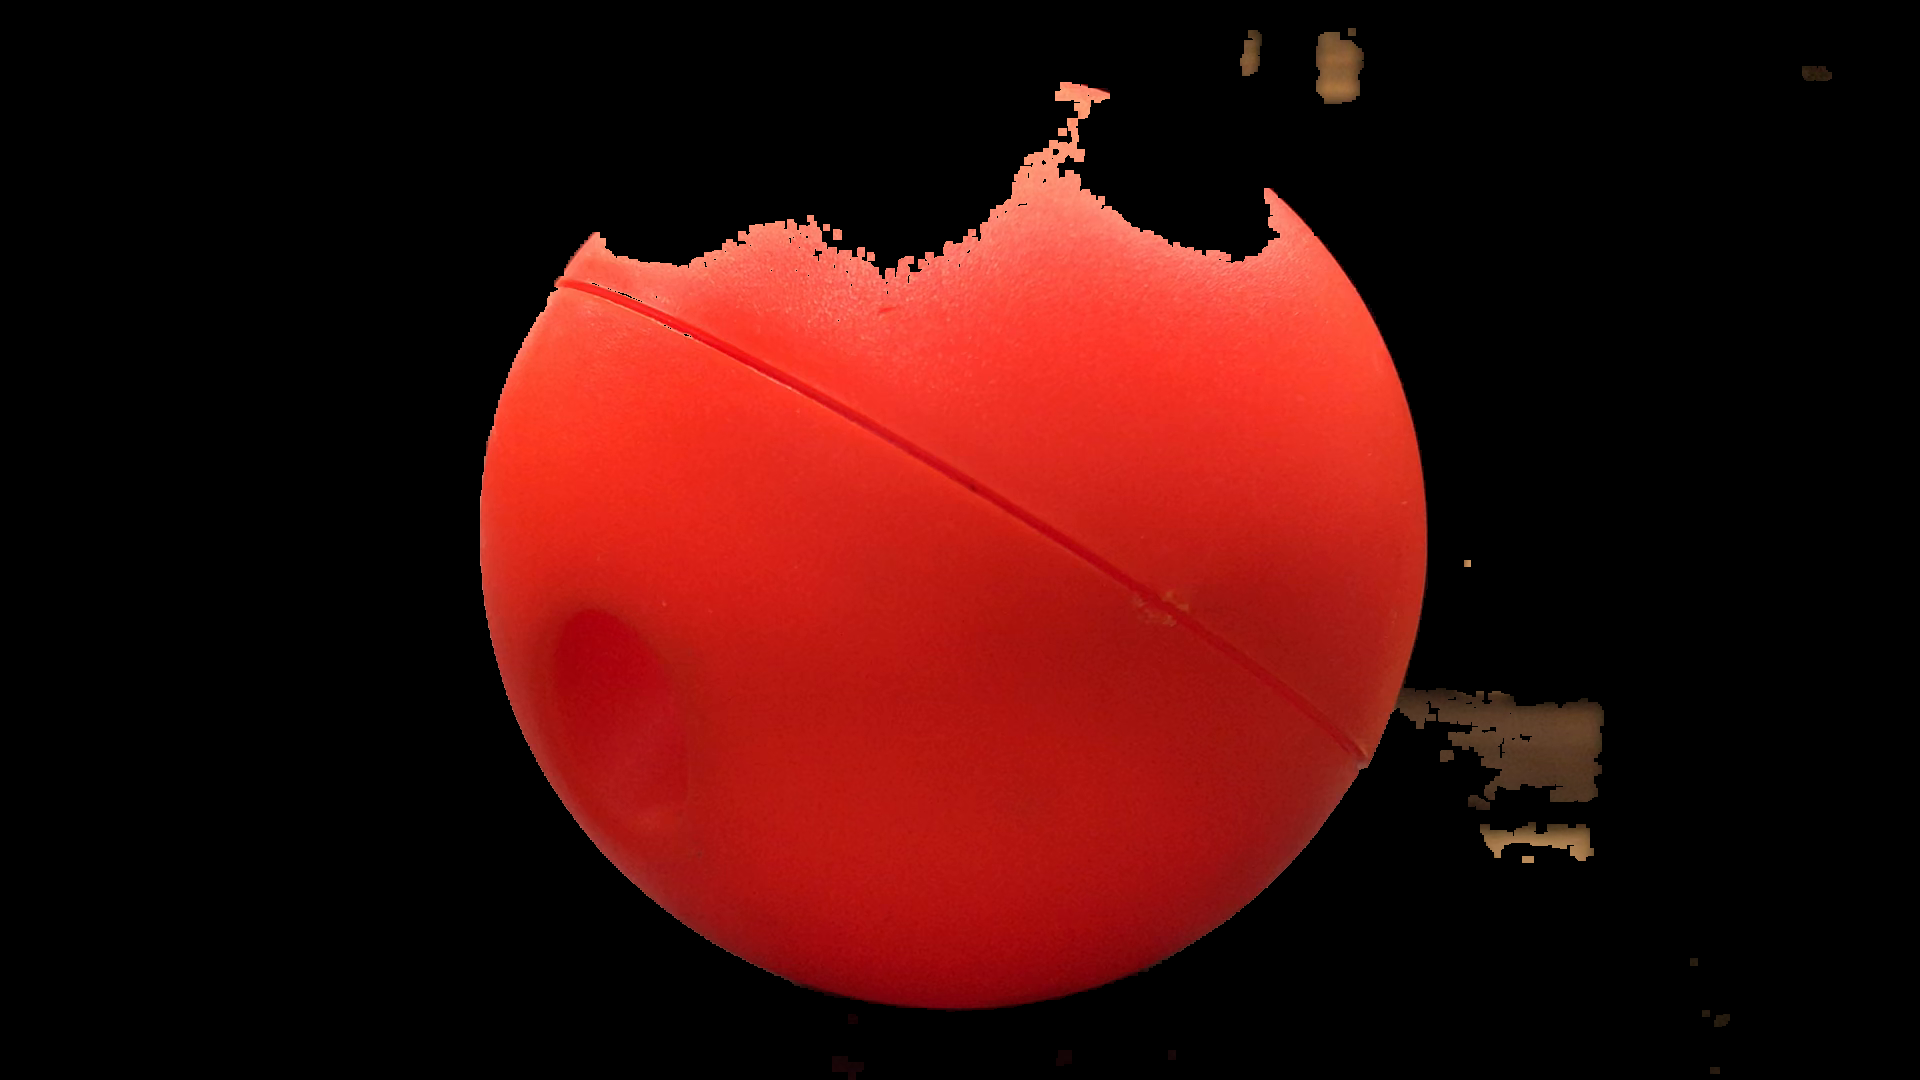Ball: (484, 65, 1427, 1007)
